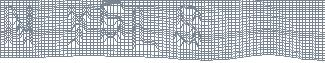5: (99, 1, 126, 46)
L: (130, 7, 160, 53)
N: (3, 4, 35, 49)
S: (172, 4, 204, 51)
y: (64, 5, 92, 50)
